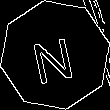N_N: (30, 26, 80, 84)
